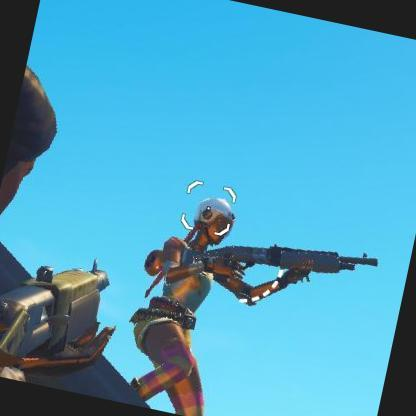person: (144, 204, 257, 396), (113, 290, 230, 416)
